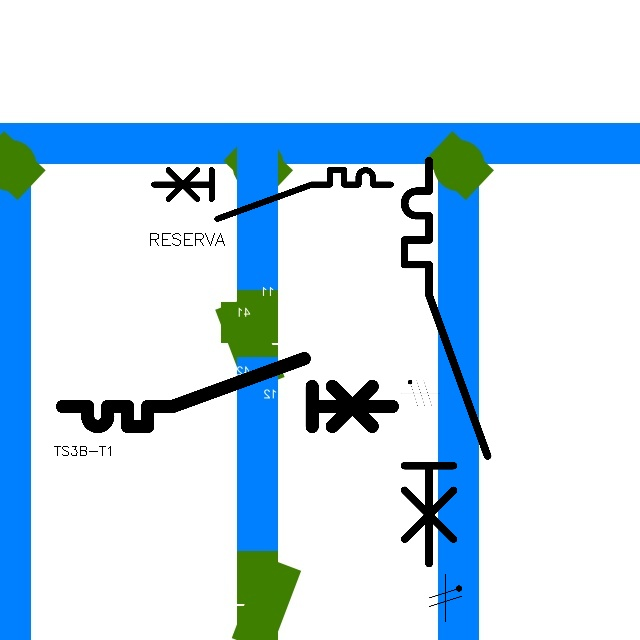interruptor_termomagnetico: (394, 150, 497, 574), (54, 350, 401, 435), (148, 164, 397, 225)
